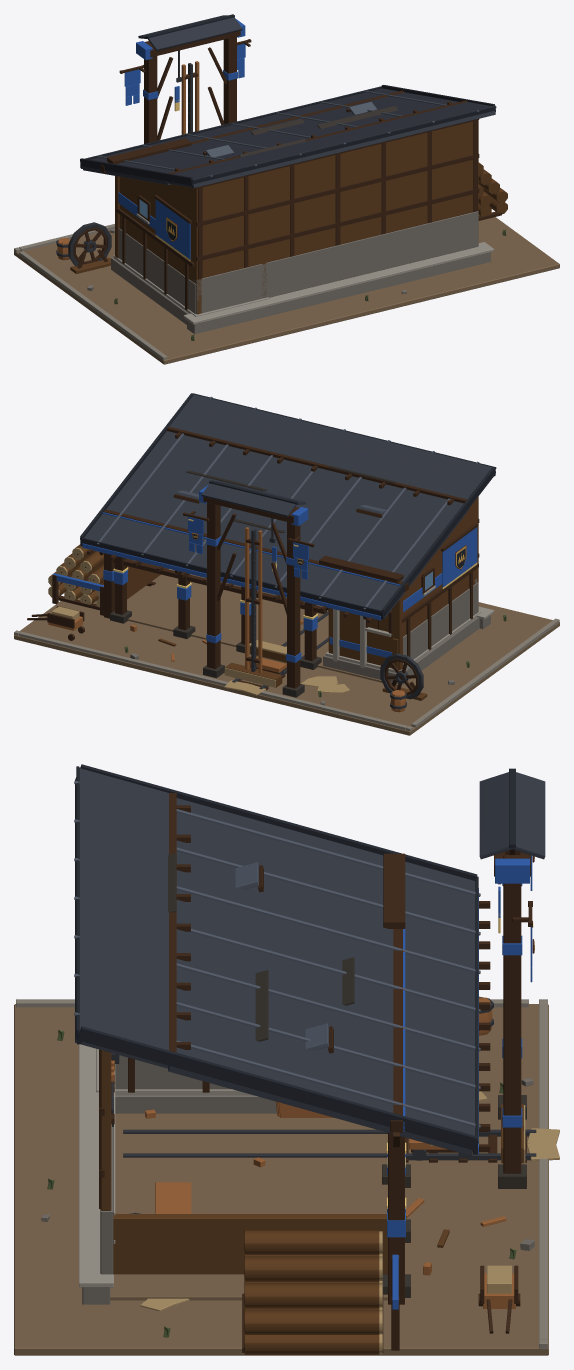
The model's file is 伐木场.glb.
The picture shows the model from 3 angles, top to bottom: view 1: azimuth 30°, elevation 25°; view 2: azimuth 150°, elevation 25°; view 3: azimuth 270°, elevation 25°; orthographic projection. The views are drawn at different scales.
Visible parts, largest first — view 1: LM-wood_mid, LM-earth, LM-stone_mid, LM-wood_dark, LM-roof, LM-roof_edge, LM-stone_light, LM-team, LM-roof_pale, LM-paving, LM-iron, LM-stone_dark (+1 smaller); view 2: LM-roof, LM-earth, LM-wood_dark, LM-wood_mid, LM-team, LM-roof_edge, LM-stone_mid, LM-paving, LM-sand, LM-roof_pale, LM-wood_warm, LM-iron (+2 smaller); view 3: LM-roof, LM-earth, LM-wood_mid, LM-wood_dark, LM-roof_edge, LM-roof_pale, LM-stone_mid, LM-stone_light, LM-iron, LM-paving, LM-team, LM-wood_warm (+2 smaller).
Part boxes in pixels (left/top/right/bottom): LM-wood_mid: left=70, top=120, right=507, bottom=314; LM-earth: left=14, top=215, right=559, bottom=364; LM-stone_mid: left=87, top=211, right=490, bottom=334; LM-wood_dark: left=73, top=31, right=501, bottom=310; LM-roof: left=82, top=15, right=495, bottom=188; LM-roof_edge: left=80, top=14, right=496, bottom=240; LM-stone_light: left=113, top=213, right=494, bottom=324; LM-team: left=118, top=18, right=245, bottom=259; LM-roof_pale: left=98, top=90, right=479, bottom=176; LM-paving: left=14, top=224, right=167, bottom=360; LM-iron: left=56, top=50, right=192, bottom=266; LM-stone_dark: left=239, top=106, right=398, bottom=157; LM-roof: left=84, top=394, right=493, bottom=618; LM-earth: left=14, top=570, right=559, bottom=735; LM-wood_dark: left=27, top=426, right=479, bottom=695; LM-wood_mid: left=49, top=408, right=478, bottom=700; LM-team: left=53, top=484, right=477, bottom=662; LM-roof_edge: left=80, top=393, right=496, bottom=619; LM-stone_mid: left=130, top=578, right=490, bottom=705; LM-paving: left=14, top=618, right=559, bottom=731; LM-sand: left=48, top=547, right=349, bottom=695; LM-roof_pale: left=97, top=396, right=479, bottom=609; LM-wood_warm: left=48, top=527, right=405, bottom=712; LM-iron: left=232, top=518, right=423, bottom=709; LM-roof: left=75, top=767, right=545, bottom=1155; LM-earth: left=14, top=1004, right=548, bottom=1355; LM-wood_mid: left=100, top=1050, right=523, bottom=1354; LM-wood_dark: left=99, top=793, right=532, bottom=1352; LM-roof_edge: left=76, top=764, right=534, bottom=1154; LM-roof_pale: left=74, top=780, right=480, bottom=1128; LM-stone_mid: left=41, top=1055, right=534, bottom=1304; LM-stone_light: left=79, top=1044, right=251, bottom=1287; LM-iron: left=111, top=883, right=536, bottom=1213; LM-paving: left=16, top=999, right=547, bottom=1349; LM-team: left=387, top=855, right=532, bottom=1309; LM-wood_warm: left=111, top=997, right=515, bottom=1308.
Size of the model in its own units: 16.81 by 7.72 by 10.92.
